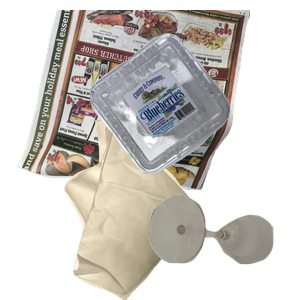glass: (147, 192, 300, 300)
paper: (14, 10, 254, 190)
plastic: (88, 31, 300, 198)
trash: (62, 120, 251, 300)
